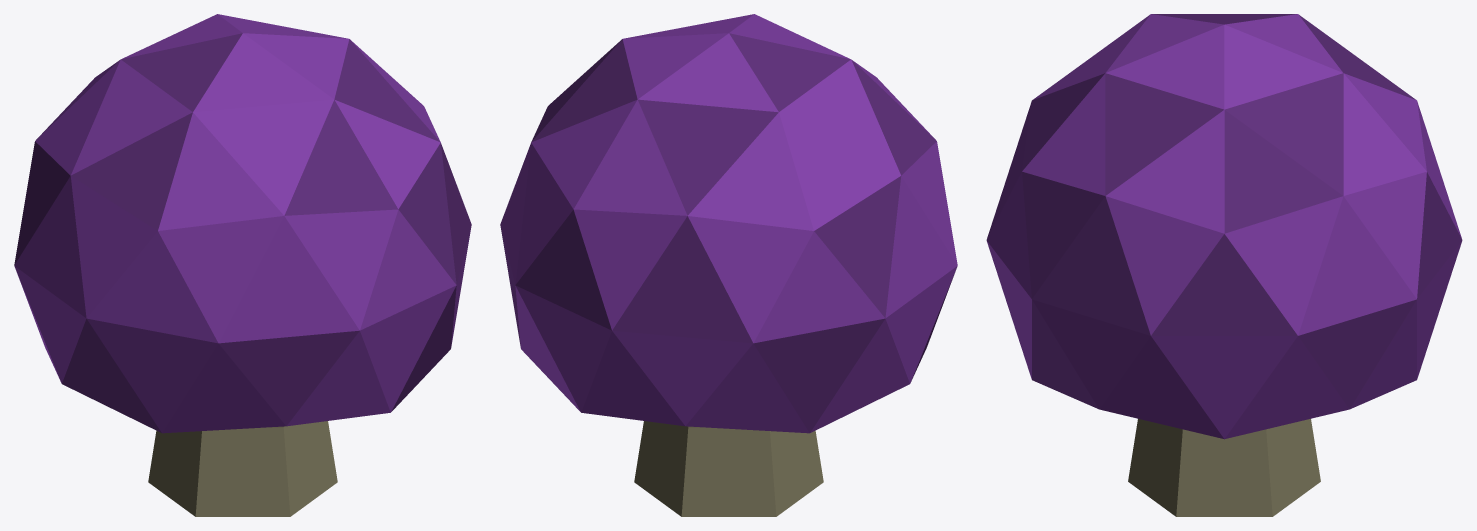
The model's file is Mushroom_1_Purple.fbx.
3 views of the same model, side by side, from view 1: azimuth 30°, elevation 25°; view 2: azimuth 150°, elevation 25°; view 3: azimuth 270°, elevation 25° (orthographic).
Parts seen in each view (by area): view 1: Mushroom_1_Purple; view 2: Mushroom_1_Purple; view 3: Mushroom_1_Purple.
Boxes of the visible parts, x1=… form: Mushroom_1_Purple: x1=14, y1=14, x2=471, y2=516; Mushroom_1_Purple: x1=500, y1=14, x2=957, y2=516; Mushroom_1_Purple: x1=986, y1=14, x2=1462, y2=516.
Bounding box in the file's own units: 46.91 × 52.26 × 49.33.
